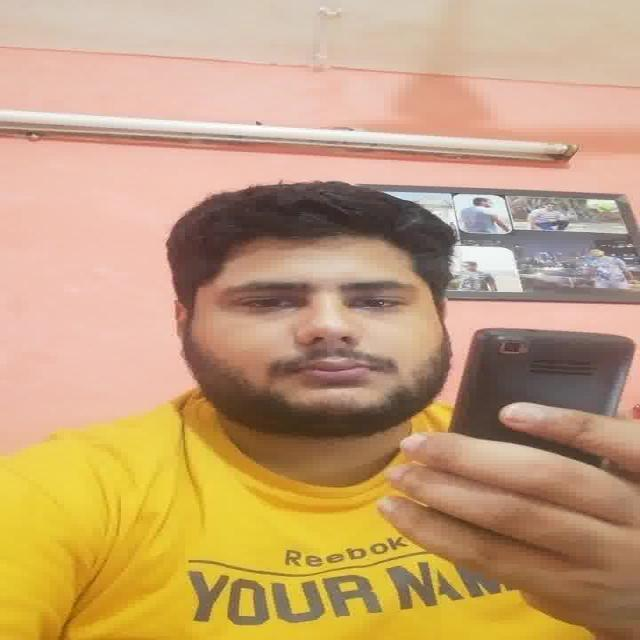Phone: (450, 326, 637, 459)
